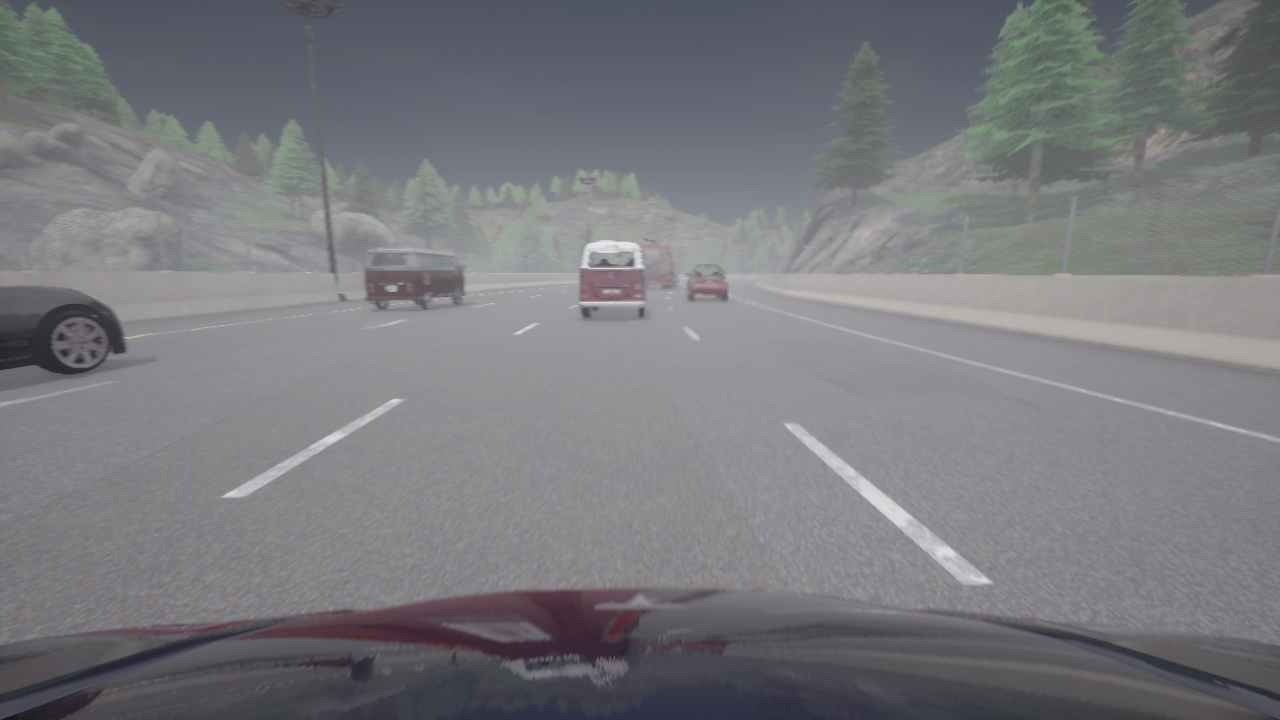cyclist: (0, 588, 1279, 719), (364, 248, 464, 310), (578, 241, 650, 318), (638, 238, 680, 289), (686, 265, 727, 300)
